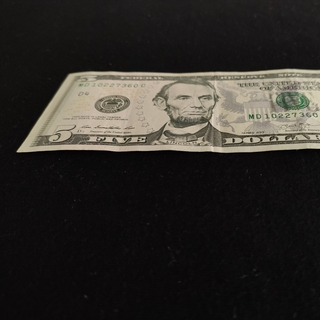5USDFront: (15, 69, 320, 154)
